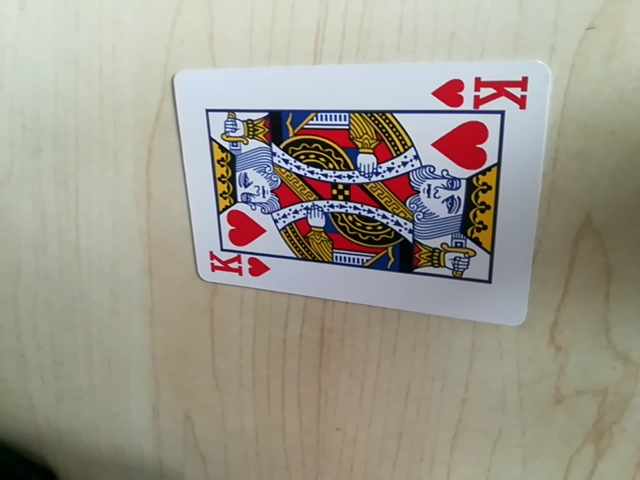hx k: (434, 67, 535, 113), (202, 252, 270, 285)
